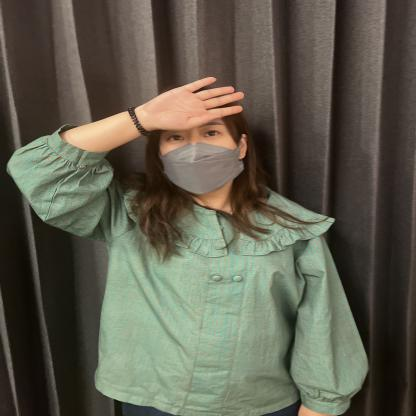Sick: (76, 63, 324, 194)
